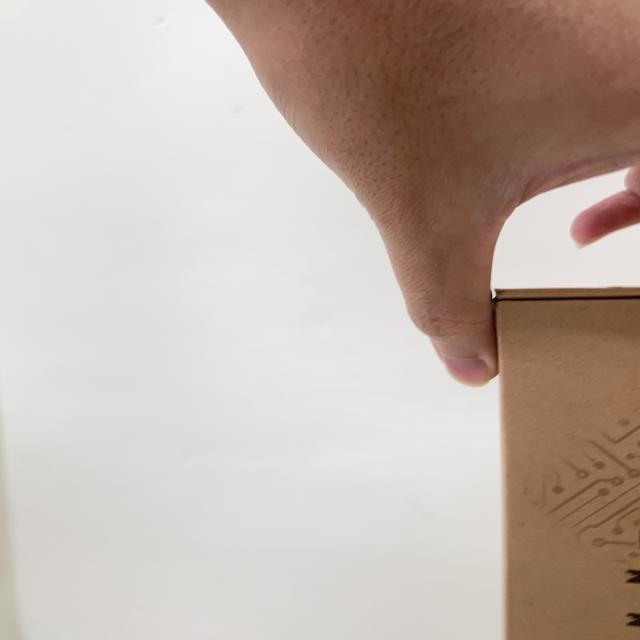box: (463, 274, 640, 640)
